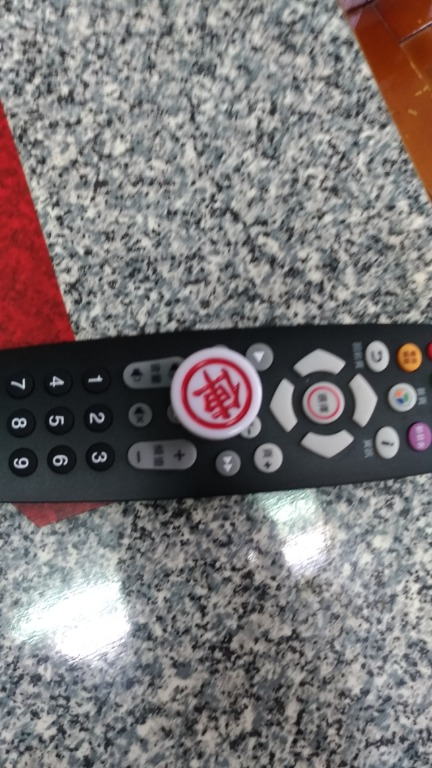r-rook: (154, 336, 287, 453)
